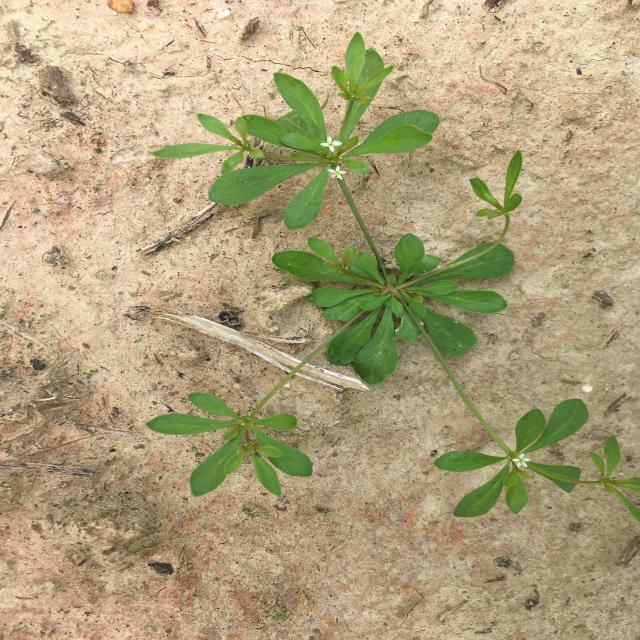Carpetweed: (145, 32, 640, 523)
